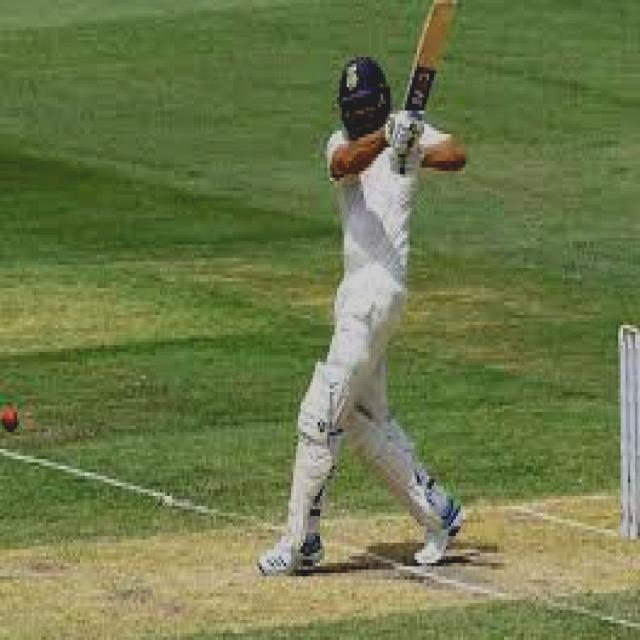toe: (427, 0, 458, 40)
